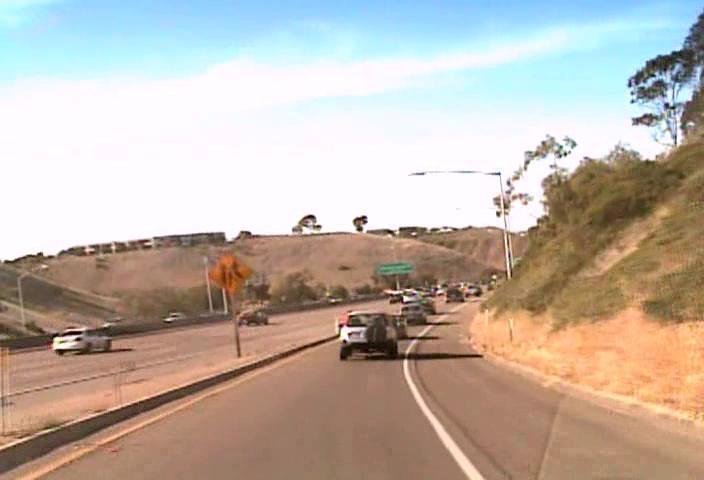addedLane: (206, 250, 252, 296)
